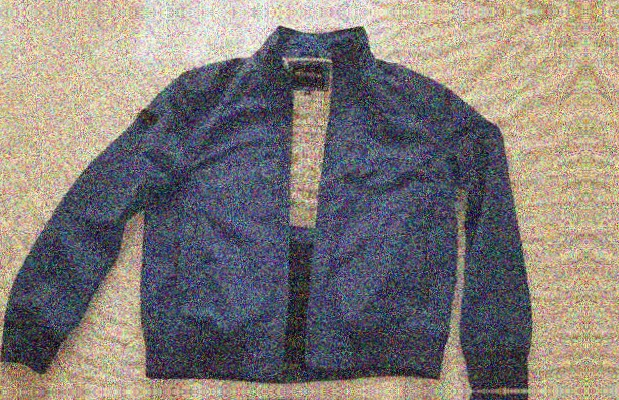Blazer: (0, 32, 551, 378)
